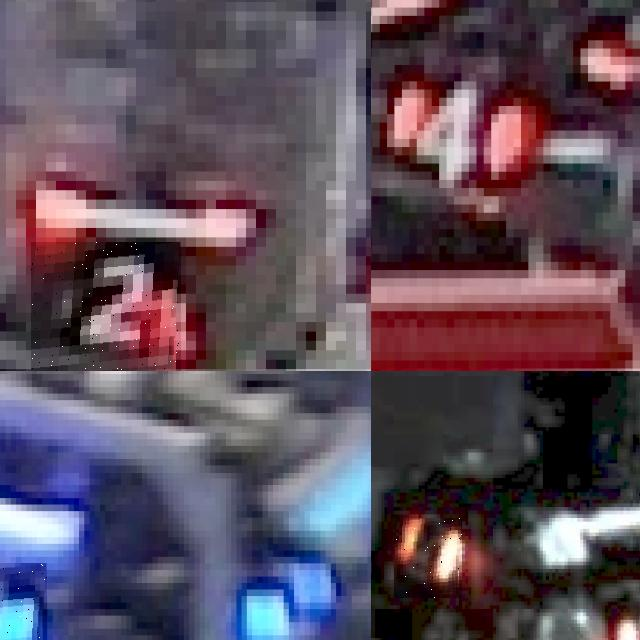B2: (0, 563, 47, 640)
R2: (31, 242, 181, 371)
R4: (372, 73, 529, 188)
Rs: (394, 518, 462, 598)
